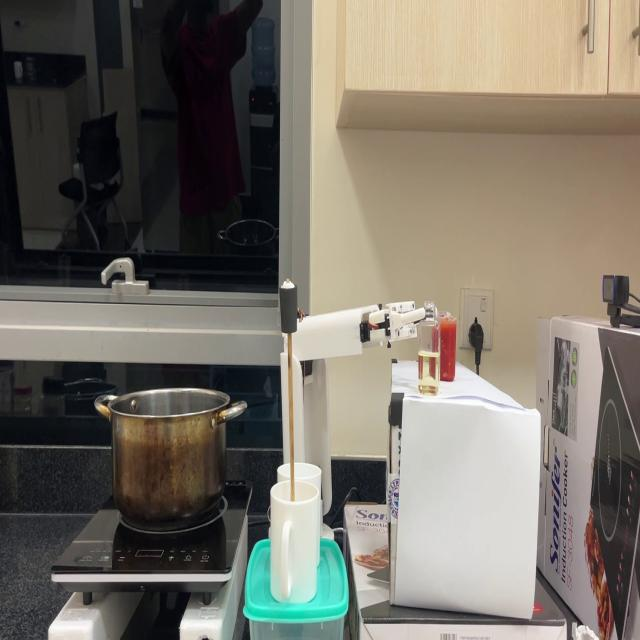blended_tomatoes_pepper: (432, 318, 457, 380)
cooking_pot: (94, 384, 247, 527)
oil: (418, 350, 438, 397)
spatula: (280, 280, 298, 500)
